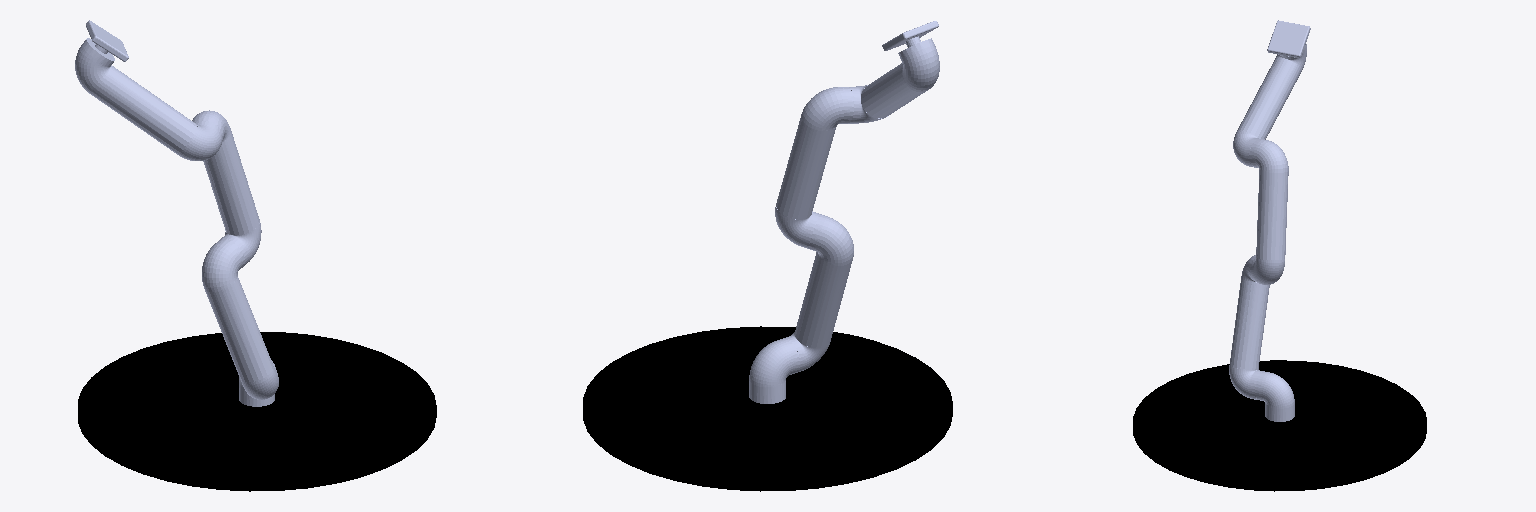
The robot description file, URDF, robot "sp_1":
<?xml version="1.0" encoding="utf-8"?>
<!-- This URDF was automatically created by SolidWorks to URDF Exporter! Originally created by [author] ([email redacted]) 
     Commit Version: 1.6.0-4-g7f85cfe  Build Version: 1.6.7995.38578
     For more information, please see http://wiki.ros.org/sw_urdf_exporter -->
<robot
  name="sp_1">
  <link
    name="base_link">
    <inertial>
      <origin
        xyz="-1.19594740478667E-33 -5.22291626813971E-17 0.0127129431358553"
        rpy="0 0 0" />
      <mass
        value="19.8061708845568" />
      <inertia
        ixx="1.22843969185759"
        ixy="4.79932775282417E-33"
        ixz="-1.83805212584181E-34"
        iyy="1.22843969185759"
        iyz="-4.28310618616912E-15"
        izz="2.45460967099484" />
    </inertial>
    <visual>
      <origin
        xyz="0 0 0"
        rpy="0 0 0" />
      <geometry>
        <mesh
          filename="package://sp_1/meshes/base_link.STL" />
      </geometry>
      <material
        name="">
        <color
          rgba="0 0 0 1" />
      </material>
    </visual>
    <collision>
      <origin
        xyz="0 0 0"
        rpy="0 0 0" />
      <geometry>
        <mesh
          filename="package://sp_1/meshes/base_link.STL" />
      </geometry>
    </collision>
  </link>
  <link
    name="link_1">
    <inertial>
      <origin
        xyz="-0.00478693222677542 -0.0112055764876874 0.116985344819798"
        rpy="0 0 0" />
      <mass
        value="1.1666289894463" />
      <inertia
        ixx="0.00280768064603209"
        ixy="-9.46908110664078E-05"
        ixz="0.000205277889218212"
        iyy="0.0026264731096657"
        iyz="0.000480528442830104"
        izz="0.00172039608026598" />
    </inertial>
    <visual>
      <origin
        xyz="0 0 0"
        rpy="0 0 0" />
      <geometry>
        <mesh
          filename="package://sp_1/meshes/link_1.STL" />
      </geometry>
      <material
        name="">
        <color
          rgba="0.792156862745098 0.819607843137255 0.933333333333333 1" />
      </material>
    </visual>
    <collision>
      <origin
        xyz="0 0 0"
        rpy="0 0 0" />
      <geometry>
        <mesh
          filename="package://sp_1/meshes/link_1.STL" />
      </geometry>
    </collision>
  </link>
  <joint
    name="joint_1"
    type="revolute">
    <origin
      xyz="0 0 0"
      rpy="0 0 0" />
    <parent
      link="base_link" />
    <child
      link="link_1" />
    <axis
      xyz="0 0 1" />
    <limit
      lower="0"
      upper="0"
      effort="0"
      velocity="0" />
  </joint>
  <link
    name="link_2">
    <inertial>
      <origin
        xyz="-0.0494647312888248 -0.107710423866363 0.158924315048863"
        rpy="0 0 0" />
      <mass
        value="0.824195390205011" />
      <inertia
        ixx="0.00123919523287019"
        ixy="-0.000157550416234854"
        ixz="0.000101162032909608"
        iyy="0.00114287666730252"
        iyz="0.000183407128180559"
        izz="0.00128664652220969" />
    </inertial>
    <visual>
      <origin
        xyz="0 0 0"
        rpy="0 0 0" />
      <geometry>
        <mesh
          filename="package://sp_1/meshes/link_2.STL" />
      </geometry>
      <material
        name="">
        <color
          rgba="0.792156862745098 0.819607843137255 0.933333333333333 1" />
      </material>
    </visual>
    <collision>
      <origin
        xyz="0 0 0"
        rpy="0 0 0" />
      <geometry>
        <mesh
          filename="package://sp_1/meshes/link_2.STL" />
      </geometry>
    </collision>
  </link>
  <joint
    name="joint_2"
    type="revolute">
    <origin
      xyz="0 0 0"
      rpy="0 0 0" />
    <parent
      link="link_1" />
    <child
      link="link_2" />
    <axis
      xyz="0.39285 0.9196 0" />
    <limit
      lower="0"
      upper="0"
      effort="0"
      velocity="0" />
  </joint>
  <link
    name="link_3">
    <inertial>
      <origin
        xyz="-0.127108689097042 -0.0947199609914197 0.384585401482302"
        rpy="0 0 0" />
      <mass
        value="3.07985891548248" />
      <inertia
        ixx="0.0379565795623957"
        ixy="0.00130551405711101"
        ixz="0.00867728337825567"
        iyy="0.039609635106212"
        iyz="-0.00523085114621079"
        izz="0.00723624283008186" />
    </inertial>
    <visual>
      <origin
        xyz="0 0 0"
        rpy="0 0 0" />
      <geometry>
        <mesh
          filename="package://sp_1/meshes/link_3.STL" />
      </geometry>
      <material
        name="">
        <color
          rgba="0.792156862745098 0.819607843137255 0.933333333333333 1" />
      </material>
    </visual>
    <collision>
      <origin
        xyz="0 0 0"
        rpy="0 0 0" />
      <geometry>
        <mesh
          filename="package://sp_1/meshes/link_3.STL" />
      </geometry>
    </collision>
  </link>
  <joint
    name="joint_3"
    type="revolute">
    <origin
      xyz="0 0 0"
      rpy="0 0 0" />
    <parent
      link="link_2" />
    <child
      link="link_3" />
    <axis
      xyz="-0.30817 0.13165 0.94218" />
    <limit
      lower="0"
      upper="0"
      effort="0"
      velocity="0" />
  </joint>
  <link
    name="link_4">
    <inertial>
      <origin
        xyz="-0.0723211475161396 -0.0394824819825069 0.566413338422513"
        rpy="0 0 0" />
      <mass
        value="0.824195390205011" />
      <inertia
        ixx="0.00120090646206984"
        ixy="-7.24082824664393E-05"
        ixz="-0.00023161607873399"
        iyy="0.00131227360286286"
        iyz="-9.30970887118092E-05"
        izz="0.0011555383574497" />
    </inertial>
    <visual>
      <origin
        xyz="0 0 0"
        rpy="0 0 0" />
      <geometry>
        <mesh
          filename="package://sp_1/meshes/link_4.STL" />
      </geometry>
      <material
        name="">
        <color
          rgba="0.792156862745098 0.819607843137255 0.933333333333333 1" />
      </material>
    </visual>
    <collision>
      <origin
        xyz="0 0 0"
        rpy="0 0 0" />
      <geometry>
        <mesh
          filename="package://sp_1/meshes/link_4.STL" />
      </geometry>
    </collision>
  </link>
  <joint
    name="joint_4"
    type="revolute">
    <origin
      xyz="0 0 0"
      rpy="0 0 0" />
    <parent
      link="link_3" />
    <child
      link="link_4" />
    <axis
      xyz="-0.91668 -0.30596 -0.25708" />
    <limit
      lower="0"
      upper="0"
      effort="0"
      velocity="0" />
  </joint>
  <link
    name="link_5">
    <inertial>
      <origin
        xyz="-0.122523343831695 -0.0275809302506961 0.79968757980154"
        rpy="0 0 0" />
      <mass
        value="3.07985891548248" />
      <inertia
        ixx="0.0366543760680499"
        ixy="-0.000222951799208805"
        ixz="0.0109651737297575"
        iyy="0.0403113090599346"
        iyz="0.000301464339597496"
        izz="0.00783677237070504" />
    </inertial>
    <visual>
      <origin
        xyz="0 0 0"
        rpy="0 0 0" />
      <geometry>
        <mesh
          filename="package://sp_1/meshes/link_5.STL" />
      </geometry>
      <material
        name="">
        <color
          rgba="0.792156862745098 0.819607843137255 0.933333333333333 1" />
      </material>
    </visual>
    <collision>
      <origin
        xyz="0 0 0"
        rpy="0 0 0" />
      <geometry>
        <mesh
          filename="package://sp_1/meshes/link_5.STL" />
      </geometry>
    </collision>
  </link>
  <joint
    name="joint_5"
    type="revolute">
    <origin
      xyz="0 0 0"
      rpy="0 0 0" />
    <parent
      link="link_4" />
    <child
      link="link_5" />
    <axis
      xyz="-0.28129 0.037061 0.95891" />
    <limit
      lower="0"
      upper="0"
      effort="0"
      velocity="0" />
  </joint>
  <link
    name="link_6">
    <inertial>
      <origin
        xyz="-0.243488686921723 -0.10443439720517 0.933653640652936"
        rpy="0 0 0" />
      <mass
        value="0.824195390205011" />
      <inertia
        ixx="0.00100776944123062"
        ixy="-0.000177688839948328"
        ixz="5.70236038081193E-05"
        iyy="0.00130523110477794"
        iyz="6.23331013733708E-05"
        izz="0.00135571787637384" />
    </inertial>
    <visual>
      <origin
        xyz="0 0 0"
        rpy="0 0 0" />
      <geometry>
        <mesh
          filename="package://sp_1/meshes/link_6.STL" />
      </geometry>
      <material
        name="">
        <color
          rgba="0.792156862745098 0.819607843137255 0.933333333333333 1" />
      </material>
    </visual>
    <collision>
      <origin
        xyz="0 0 0"
        rpy="0 0 0" />
      <geometry>
        <mesh
          filename="package://sp_1/meshes/link_6.STL" />
      </geometry>
    </collision>
  </link>
  <joint
    name="joint_6"
    type="revolute">
    <origin
      xyz="0 0 0"
      rpy="0 0 0" />
    <parent
      link="link_5" />
    <child
      link="link_6" />
    <axis
      xyz="-0.63009 -0.76081 -0.15543" />
    <limit
      lower="0"
      upper="0"
      effort="0"
      velocity="0" />
  </joint>
  <link
    name="link_7">
    <inertial>
      <origin
        xyz="-0.414970747836835 -0.0176940960889745 1.07595525798021"
        rpy="0 0 0" />
      <mass
        value="3.07985891548248" />
      <inertia
        ixx="0.0256174259915329"
        ixy="0.00983961543488005"
        ixz="0.01478518037338"
        iyy="0.0339138113725898"
        iyz="-0.00987011413587972"
        izz="0.0252712201345668" />
    </inertial>
    <visual>
      <origin
        xyz="0 0 0"
        rpy="0 0 0" />
      <geometry>
        <mesh
          filename="package://sp_1/meshes/link_7.STL" />
      </geometry>
      <material
        name="">
        <color
          rgba="0.792156862745098 0.819607843137255 0.933333333333333 1" />
      </material>
    </visual>
    <collision>
      <origin
        xyz="0 0 0"
        rpy="0 0 0" />
      <geometry>
        <mesh
          filename="package://sp_1/meshes/link_7.STL" />
      </geometry>
    </collision>
  </link>
  <joint
    name="joint_7"
    type="revolute">
    <origin
      xyz="0 0 0"
      rpy="0 0 0" />
    <parent
      link="link_6" />
    <child
      link="link_7" />
    <axis
      xyz="-0.67404 0.43648 0.59594" />
    <limit
      lower="0"
      upper="0"
      effort="0"
      velocity="0" />
  </joint>
  <link
    name="end_effector">
    <inertial>
      <origin
        xyz="-0.465112699546798 0.0314185982157943 1.23879419097166"
        rpy="0 0 0" />
      <mass
        value="0.332846963370469" />
      <inertia
        ixx="0.000486617887572416"
        ixy="-3.12792237636447E-05"
        ixz="0.000129939709500207"
        iyy="0.000402329007373404"
        iyz="-4.29512326716909E-05"
        izz="0.000570417599071427" />
    </inertial>
    <visual>
      <origin
        xyz="0 0 0"
        rpy="0 0 0" />
      <geometry>
        <mesh
          filename="package://sp_1/meshes/end_effector.STL" />
      </geometry>
      <material
        name="">
        <color
          rgba="0.792156862745098 0.819607843137255 0.933333333333333 1" />
      </material>
    </visual>
    <collision>
      <origin
        xyz="0 0 0"
        rpy="0 0 0" />
      <geometry>
        <mesh
          filename="package://sp_1/meshes/end_effector.STL" />
      </geometry>
    </collision>
  </link>
  <joint
    name="joint_8"
    type="revolute">
    <origin
      xyz="0 0 0"
      rpy="0 0 0" />
    <parent
      link="link_7" />
    <child
      link="end_effector" />
    <axis
      xyz="0.57785 -0.19101 0.79348" />
    <limit
      lower="0"
      upper="0"
      effort="0"
      velocity="0" />
  </joint>
</robot>

--- Render facts (derived) ---
3 views of the same robot in one strip: view 1: azimuth 30°, elevation 25°; view 2: azimuth 150°, elevation 25°; view 3: azimuth 270°, elevation 25° (orthographic).
Model sp_1 with 9 links and 8 joints (8 revolute), rooted at base_link, posed all joints at 0.
Visible links, largest first — view 1: base_link, link_3, link_7, link_5, link_6, end_effector, link_2, link_4; view 2: base_link, link_5, link_3, link_7, link_1, link_4, end_effector, link_2; view 3: base_link, link_5, link_3, link_7, link_1, end_effector, link_4, link_2, link_6.
Boxes of the visible links, x1=… form: base_link: x1=78, y1=332, x2=436, y2=491; link_3: x1=202, y1=238, x2=273, y2=381; link_7: x1=75, y1=38, x2=197, y2=153; link_5: x1=192, y1=110, x2=259, y2=234; link_6: x1=177, y1=120, x2=222, y2=160; end_effector: x1=86, y1=20, x2=128, y2=61; link_2: x1=241, y1=367, x2=278, y2=399; link_4: x1=221, y1=223, x2=261, y2=267; base_link: x1=583, y1=326, x2=952, y2=491; link_5: x1=776, y1=87, x2=853, y2=219; link_3: x1=795, y1=214, x2=853, y2=347; link_7: x1=861, y1=38, x2=939, y2=118; link_1: x1=749, y1=338, x2=799, y2=403; link_4: x1=775, y1=207, x2=819, y2=248; end_effector: x1=882, y1=21, x2=938, y2=50; link_2: x1=786, y1=332, x2=829, y2=372; base_link: x1=1133, y1=360, x2=1426, y2=491; link_5: x1=1249, y1=139, x2=1288, y2=259; link_3: x1=1229, y1=255, x2=1269, y2=369; link_7: x1=1237, y1=44, x2=1306, y2=139; link_1: x1=1255, y1=371, x2=1294, y2=421; end_effector: x1=1267, y1=20, x2=1310, y2=57; link_4: x1=1250, y1=258, x2=1284, y2=284; link_2: x1=1229, y1=366, x2=1261, y2=399; link_6: x1=1233, y1=130, x2=1258, y2=167.
Size in the robot's own frame: 1.05 by 1 by 1.29 metres.
Meshes: 9 distinct files referenced, 9 mesh visuals loaded (9 binary STL).